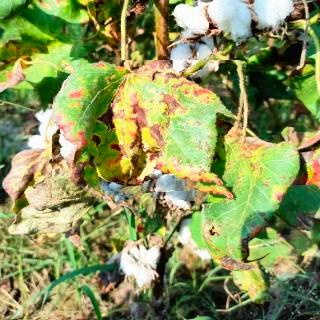blight: (52, 60, 248, 201)
